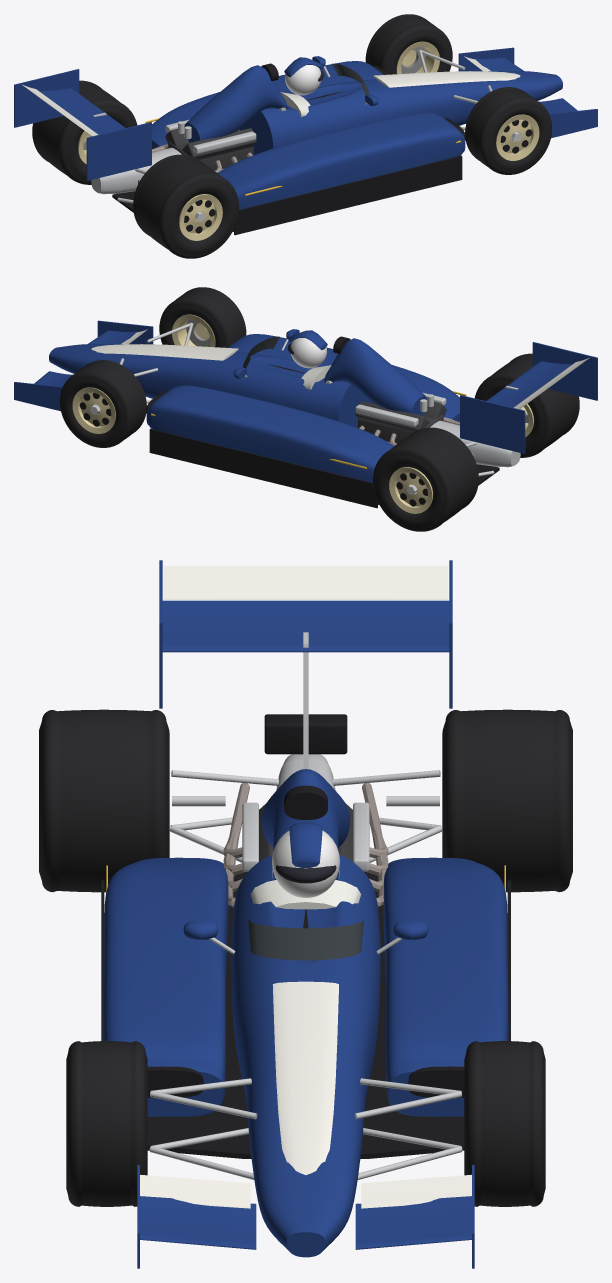
File: wingcar.glb
3 renders of one model, top to bottom at view 1: azimuth 30°, elevation 25°; view 2: azimuth 150°, elevation 25°; view 3: azimuth 270°, elevation 25°, orthographic. The views are drawn at different scales.
Parts seen in each view (by area): view 1: Sidepod_R, Chassis, Tyre_RR, RearWing, Tyre_FR, Skirt_R, Tyre_FL, EngineCover, Tyre_RL, PU_ICE, FrontWing, Sidepod_L (+6 smaller); view 2: Sidepod_L, Chassis, Tyre_RL, RearWing, Tyre_FL, Skirt_L, Tyre_FR, EngineCover, Tyre_RR, PU_ICE, FrontWing, Sidepod_R (+6 smaller); view 3: Chassis, Sidepod_R, Sidepod_L, Tyre_RR, Tyre_RL, RearWing, FrontWing, Tyre_FL, Tyre_FR, Floor, Nose_Stripe, RearWing_Flap (+11 smaller).
Boxes of the visible parts, x1=… form: Sidepod_R: x1=217, y1=112, x2=465, y2=209; Chassis: x1=240, y1=71, x2=562, y2=154; Tyre_RR: x1=133, y1=154, x2=238, y2=258; RearWing: x1=14, y1=69, x2=151, y2=180; Tyre_FR: x1=465, y1=87, x2=552, y2=174; Skirt_R: x1=234, y1=155, x2=462, y2=235; Tyre_FL: x1=365, y1=14, x2=452, y2=74; EngineCover: x1=184, y1=65, x2=287, y2=142; Tyre_RL: x1=32, y1=80, x2=137, y2=184; PU_ICE: x1=138, y1=119, x2=256, y2=183; FrontWing: x1=458, y1=47, x2=597, y2=138; Sidepod_L: x1=152, y1=61, x2=383, y2=148; Sidepod_L: x1=146, y1=385, x2=394, y2=482; Chassis: x1=49, y1=344, x2=371, y2=427; Tyre_RL: x1=373, y1=427, x2=478, y2=531; RearWing: x1=460, y1=342, x2=597, y2=453; Tyre_FL: x1=59, y1=360, x2=146, y2=447; Skirt_L: x1=149, y1=428, x2=377, y2=508; Tyre_FR: x1=159, y1=287, x2=246, y2=347; EngineCover: x1=324, y1=338, x2=427, y2=415; Tyre_RR: x1=474, y1=353, x2=579, y2=457; PU_ICE: x1=355, y1=392, x2=473, y2=456; FrontWing: x1=14, y1=320, x2=153, y2=411; Sidepod_R: x1=228, y1=334, x2=459, y2=421; Chassis: x1=231, y1=854, x2=380, y2=1257; Sidepod_R: x1=103, y1=857, x2=228, y2=1116; Sidepod_L: x1=383, y1=857, x2=508, y2=1116; Tyre_RR: x1=39, y1=709, x2=169, y2=892; Tyre_RL: x1=442, y1=709, x2=572, y2=892; RearWing: x1=159, y1=560, x2=452, y2=769; FrontWing: x1=137, y1=1165, x2=474, y2=1268; Tyre_FL: x1=464, y1=1041, x2=545, y2=1206; Tyre_FR: x1=66, y1=1041, x2=147, y2=1206; Floor: x1=147, y1=871, x2=464, y2=1158; Nose_Stripe: x1=272, y1=981, x2=338, y2=1174; RearWing_Flap: x1=163, y1=566, x2=448, y2=599.
Size of the model in its own units: 4.24 by 0.96 by 1.93.
